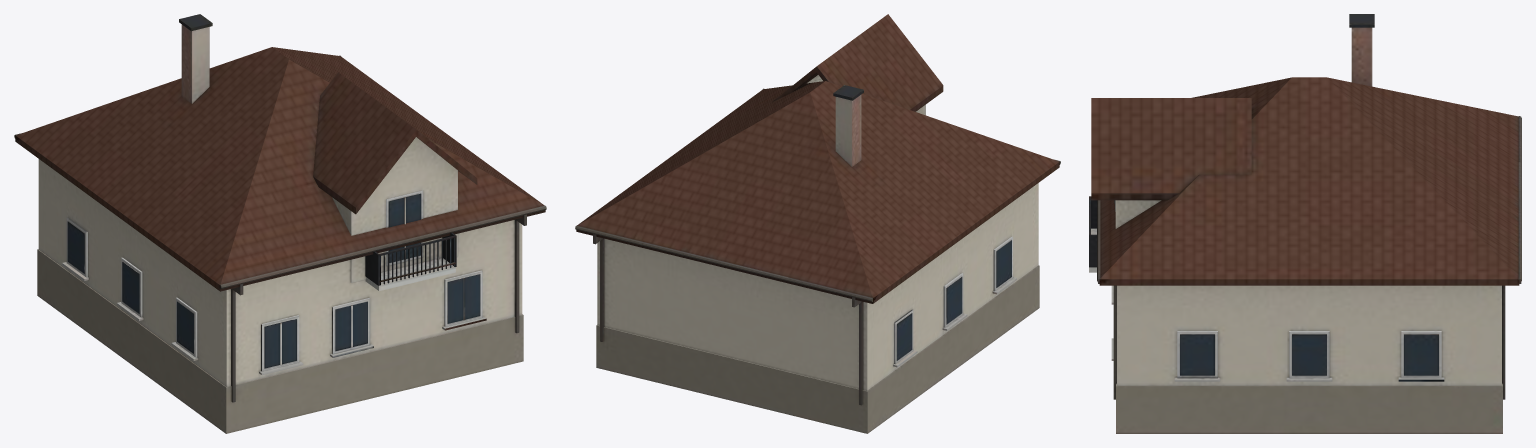
File: dom_w163.glb
The picture shows the model from 3 angles, left to right: view 1: azimuth 30°, elevation 25°; view 2: azimuth 150°, elevation 25°; view 3: azimuth 270°, elevation 25°; orthographic projection. The views are drawn at different scales.
Visible parts, largest first — view 1: dom_w163; view 2: dom_w163; view 3: dom_w163.
Part boxes in pixels (<box>): dom_w163: <box>14,14,546,433</box>; dom_w163: <box>575,14,1060,433</box>; dom_w163: <box>1089,14,1521,433</box>.
Size of the model in its own units: 11 by 9.8 by 12.37.
Materials: 1 (1 with a texture image).
